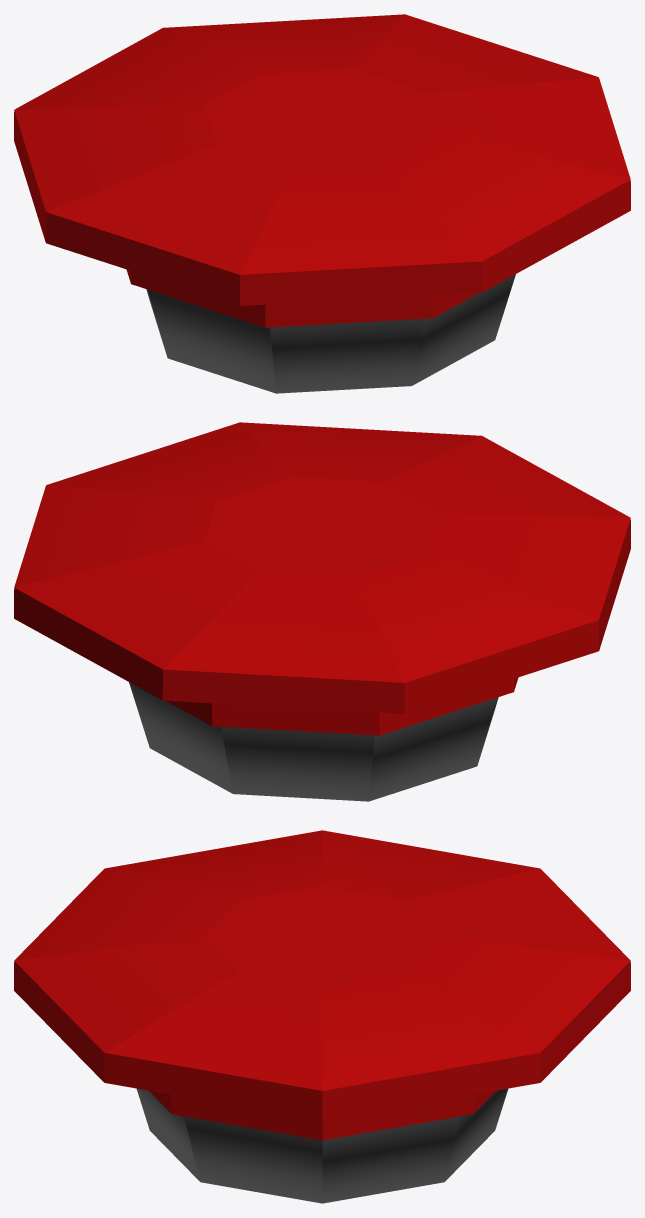
The model's file is red_button.fbx.
3 views of the same model, one above another, from view 1: azimuth 30°, elevation 25°; view 2: azimuth 150°, elevation 25°; view 3: azimuth 270°, elevation 25° (orthographic). The views are drawn at different scales.
Parts seen in each view (by area): view 1: pSphere2; view 2: pSphere2; view 3: pSphere2.
Boxes of the visible parts, x1,y1,x2,y2 form: pSphere2: (14, 14, 630, 393); pSphere2: (14, 422, 630, 801); pSphere2: (14, 830, 630, 1203).
Size of the model in its own units: 3.55 by 1.24 by 3.55.
